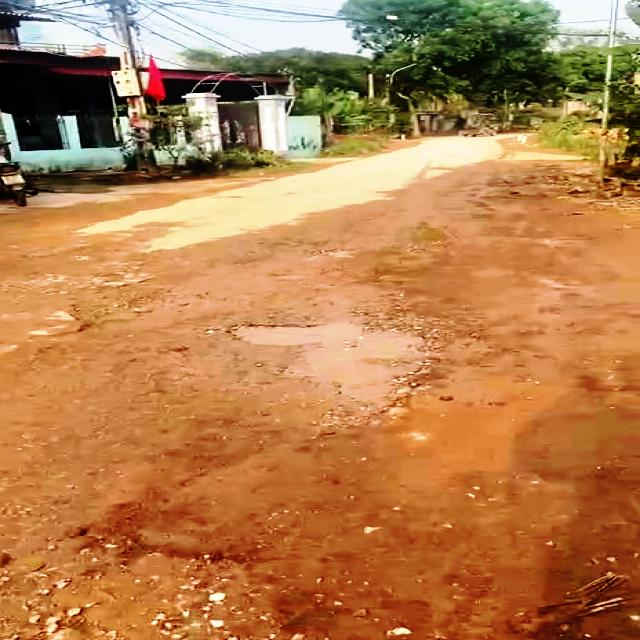pothole: (0, 530, 298, 640), (223, 317, 450, 408)
